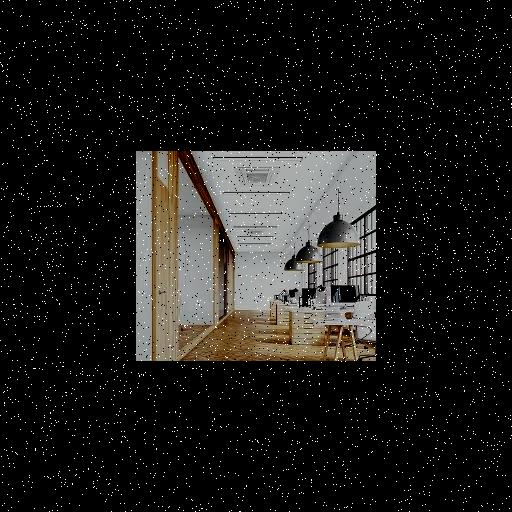4-way-ac: (233, 167, 280, 187)
